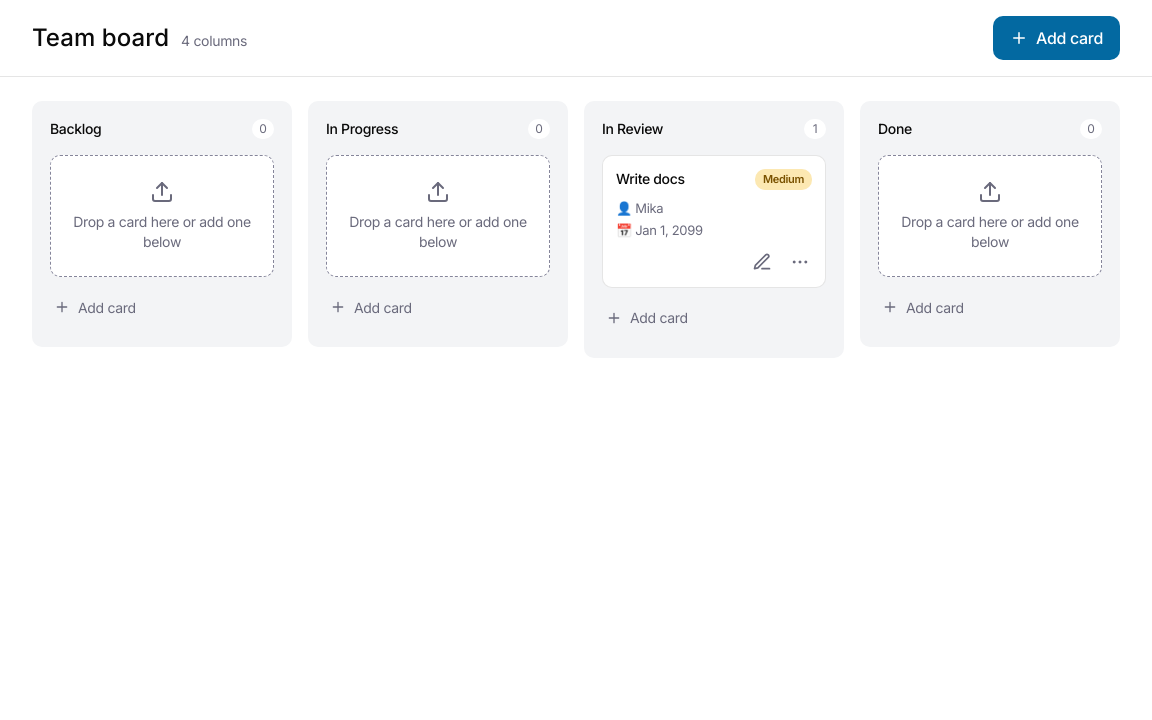
Test: Board: creating cards › adds to a specific column from that column's own button
The width and height of the screenshot is (1152, 720).
Click the button "Add card" below "Jan 1, 2099" at (714, 318), box [602,296,826,340]
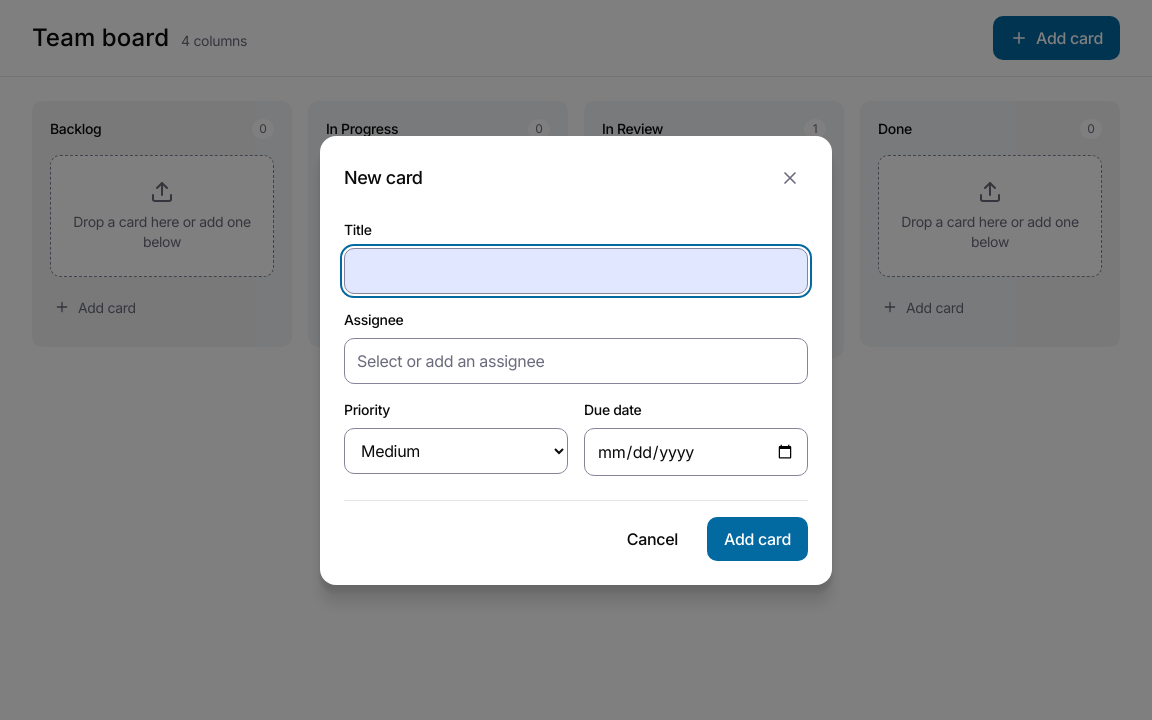
Type "  Ship v1  " into the field labelled "Title" at (576, 270), box [344,248,808,294]
Type "Sam" into the dropdown labelled "Assignee" at (576, 360), box [344,338,808,384]
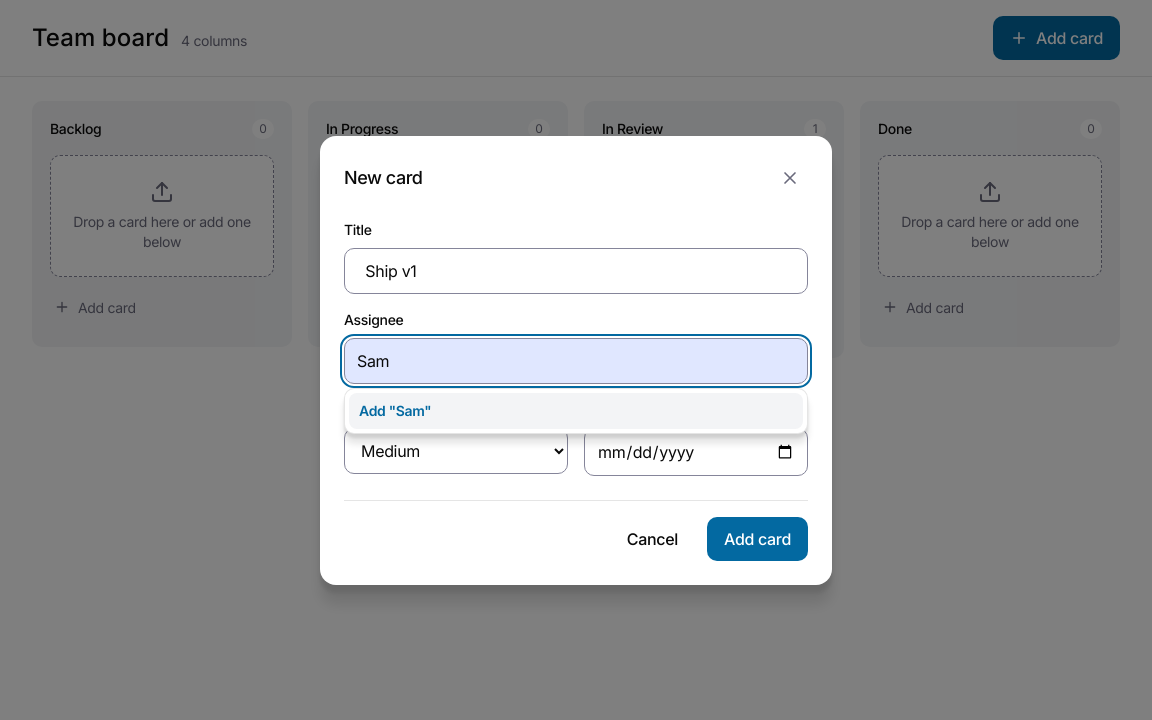
Click the option "Add \"Sam\"" at (395, 410), box [349,392,803,428]
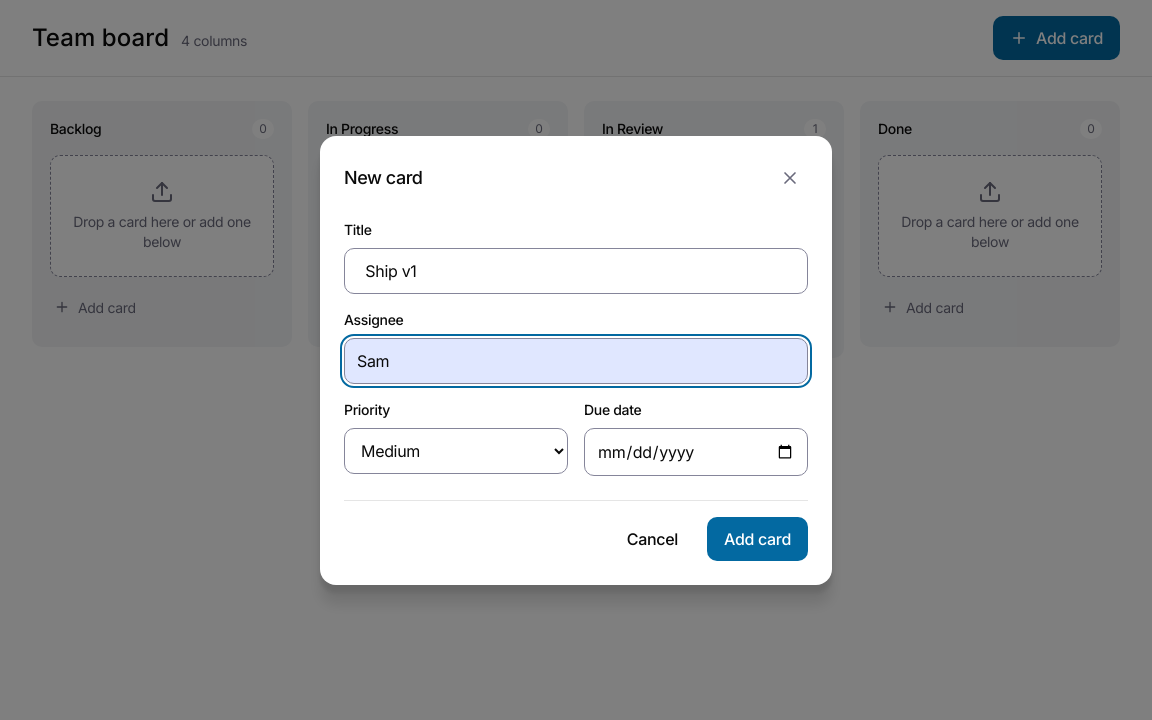
Select "High" in the dropdown labelled "Priority" at (456, 450), box [344,428,568,474]
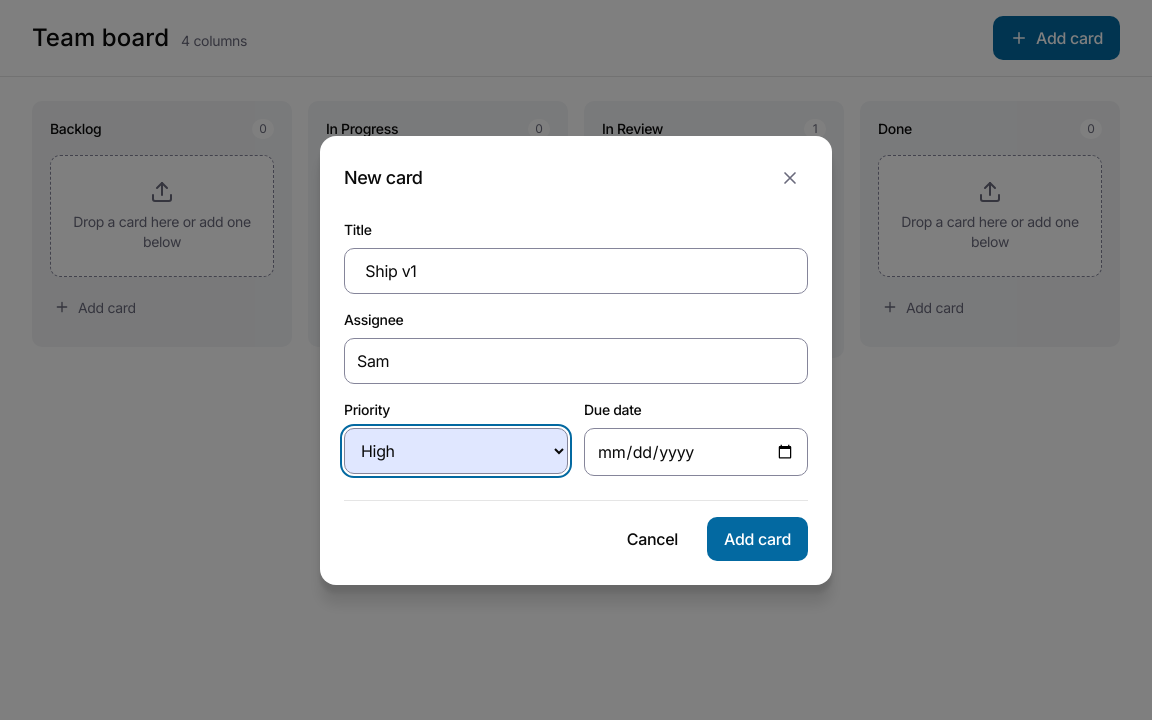
Type "2099-12-31" into the date field labelled "Due date" at (696, 452), box [584,428,808,476]
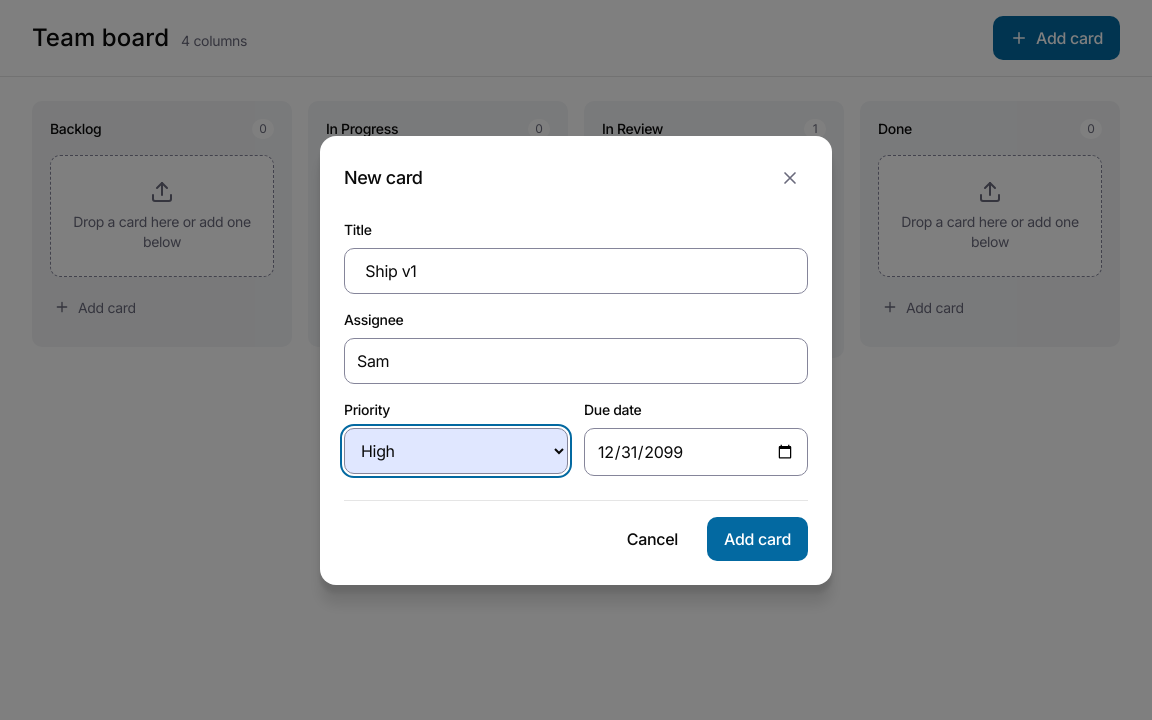
Click the button "Add card" at (758, 538), box [707,516,808,560]
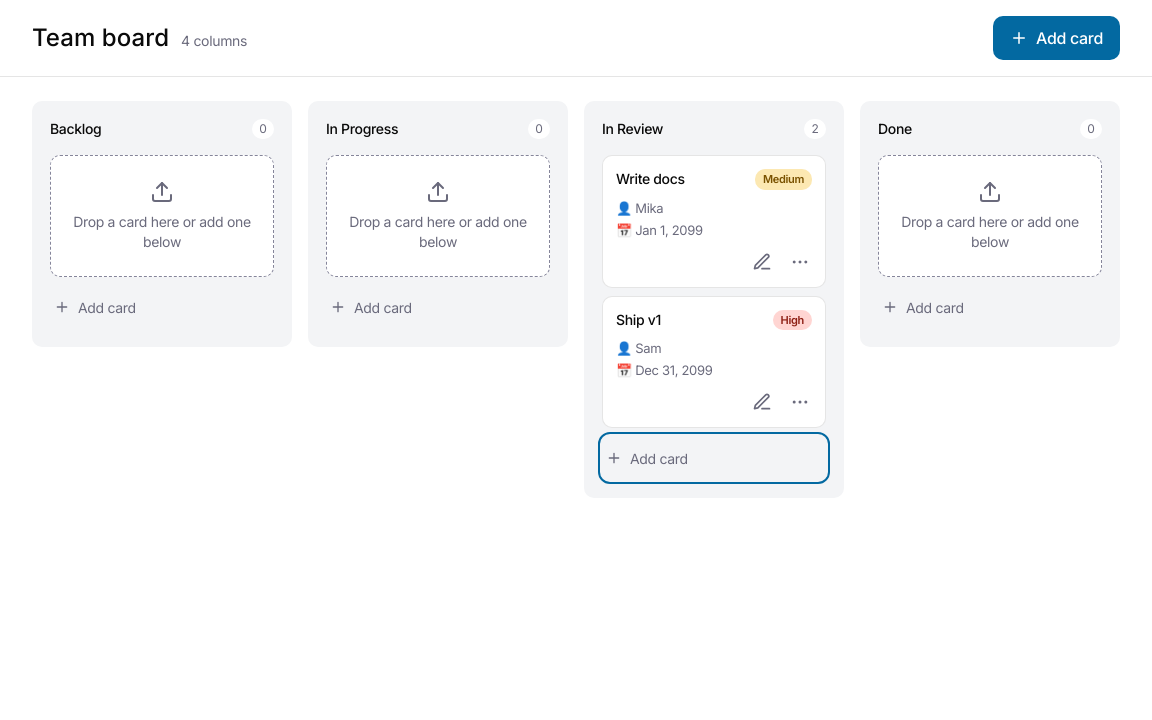
Check: the heading "Ship v1" is shown, box [616,310,661,330]
